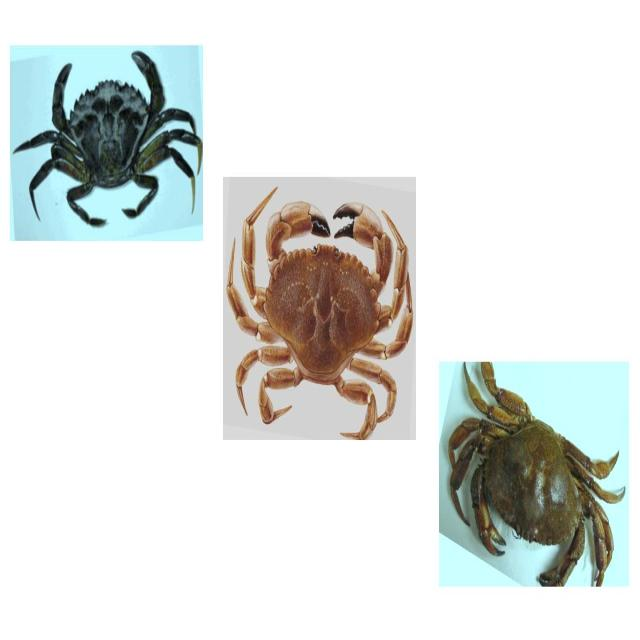egc: (8, 45, 202, 244)
jonah_crab: (224, 185, 416, 432)
rock_crab: (441, 364, 630, 586)
